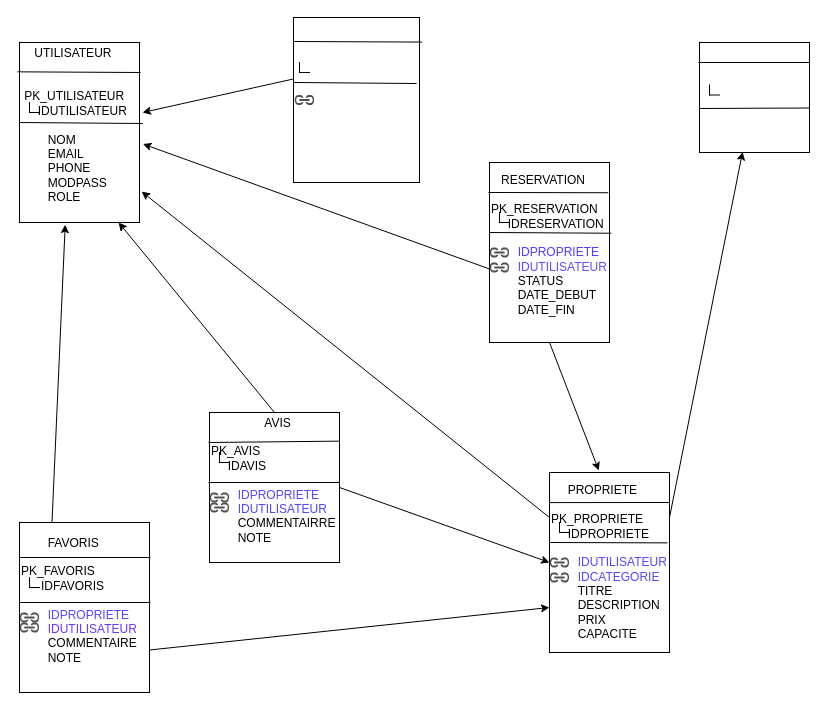
This 829x710 diagram has some shape labels left out. The shapes that lost their labels are listed below. From the top down, each one's centre as x and y in pixels, then its label:
At (x=356, y=99): "HOTEL PK_HOTEL IDHOTEL IDUTILISATEUR NOM DESCRIPTION ADRESSE VILLE".
At (x=754, y=97): "CATEGORIE PK_CATEGORIE IDCATEGORIE NOM".
